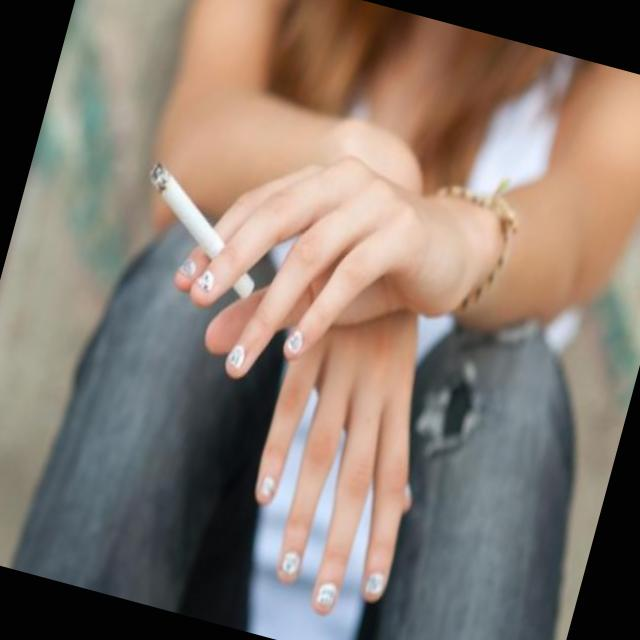cigarette: (116, 154, 286, 320)
